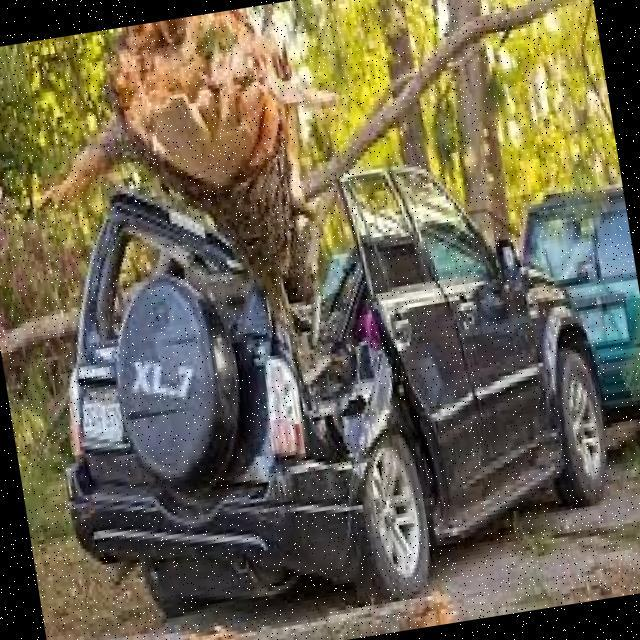fallen_object: (79, 0, 384, 399)
